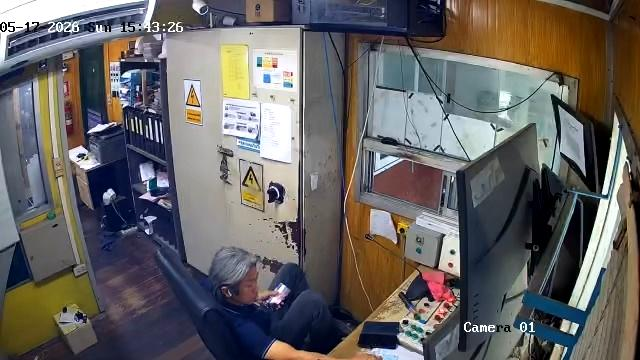Head: (210, 250, 262, 304)
People: (209, 247, 344, 360)
Phone: (264, 283, 292, 314), (356, 334, 400, 353)
